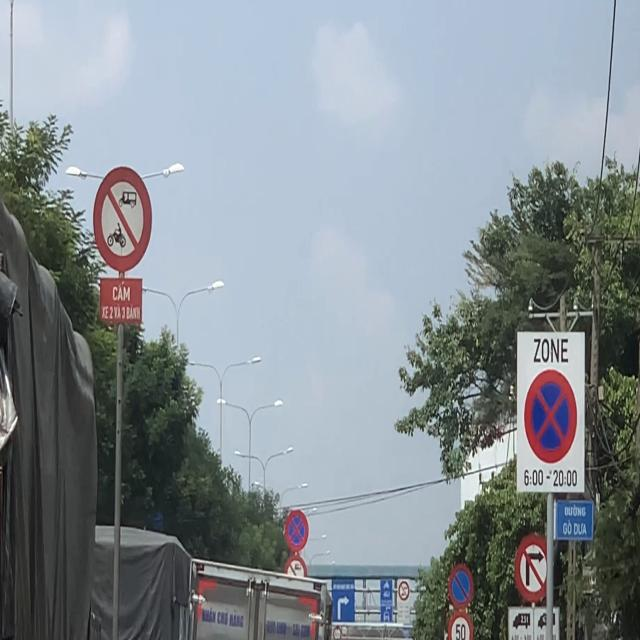Cam con lai: (91, 166, 153, 273)
Cam do: (446, 562, 475, 610)
Cam dung va do: (523, 366, 579, 466), (285, 508, 309, 552)
Cam re phai: (515, 531, 548, 603)
Toc do toi da: (448, 611, 472, 640)
